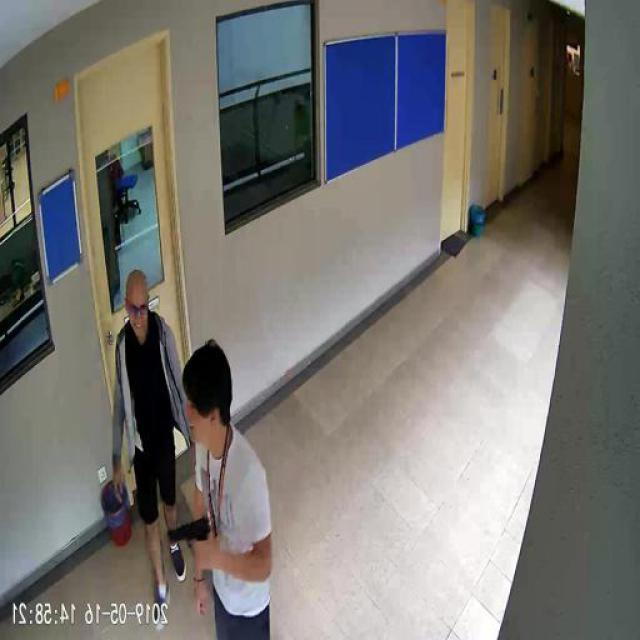weapon: (164, 518, 218, 566)
